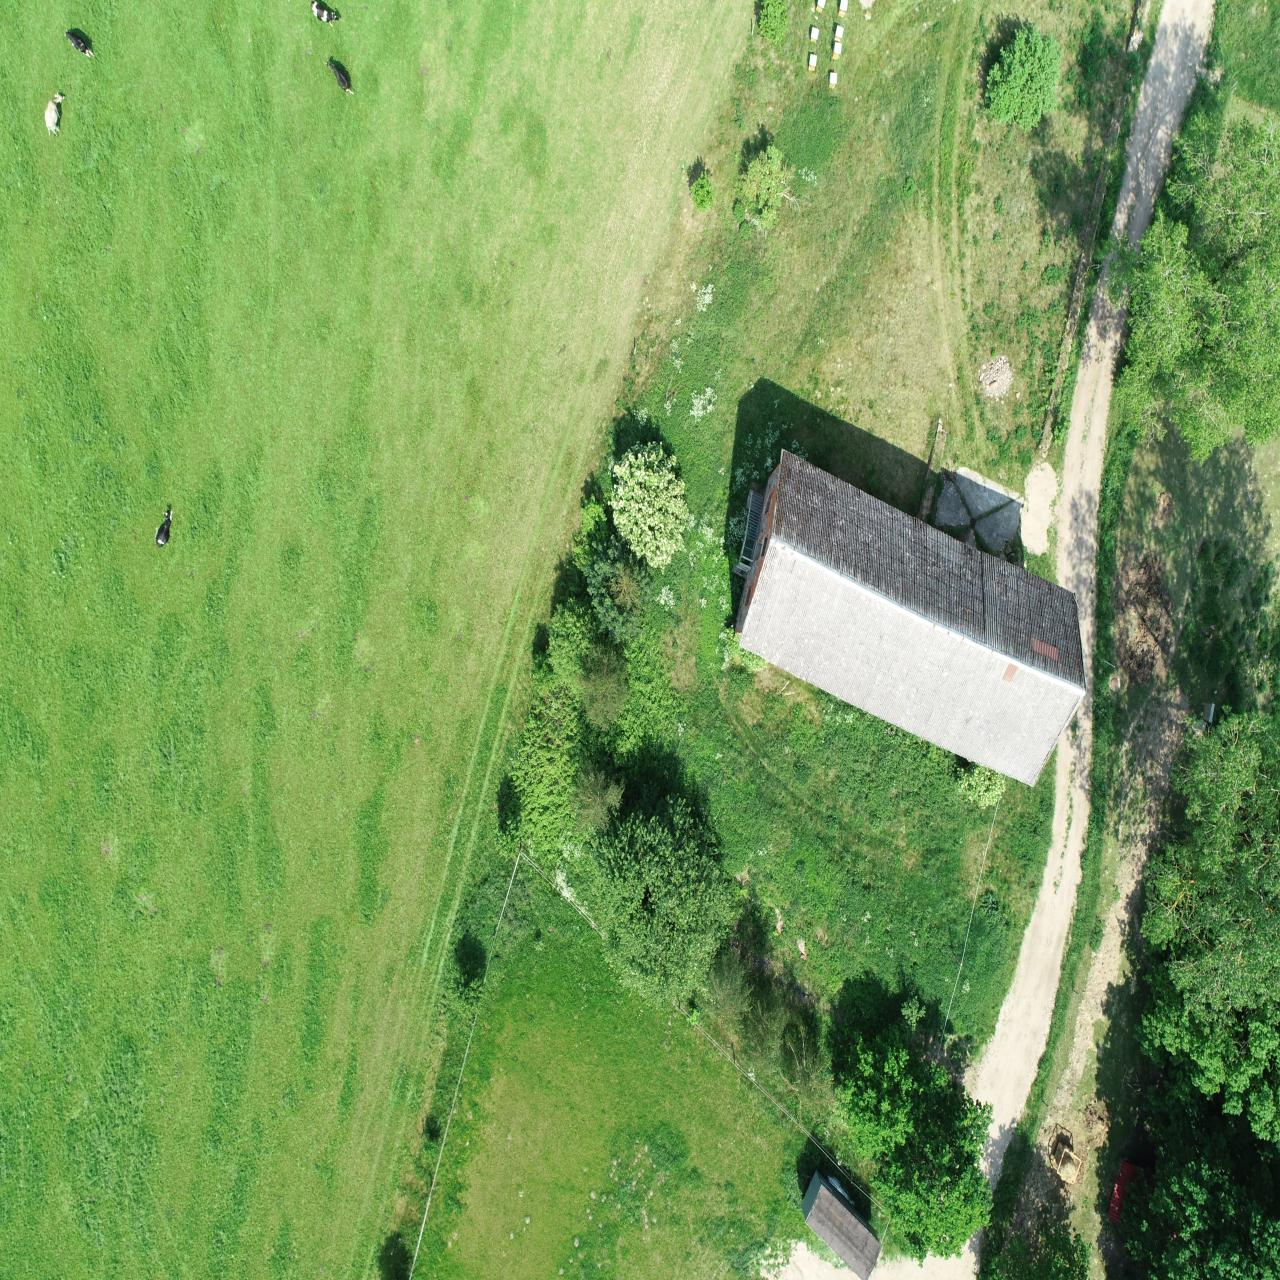cow: (324, 56, 355, 98), (43, 89, 68, 142), (62, 26, 98, 61), (154, 504, 175, 551), (309, 0, 341, 29)
